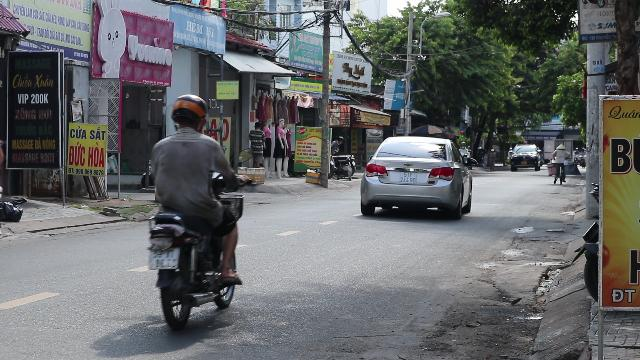helmet: (168, 93, 208, 131)
licenseplate: (148, 248, 178, 268)
motorcyclist: (142, 94, 246, 332)
